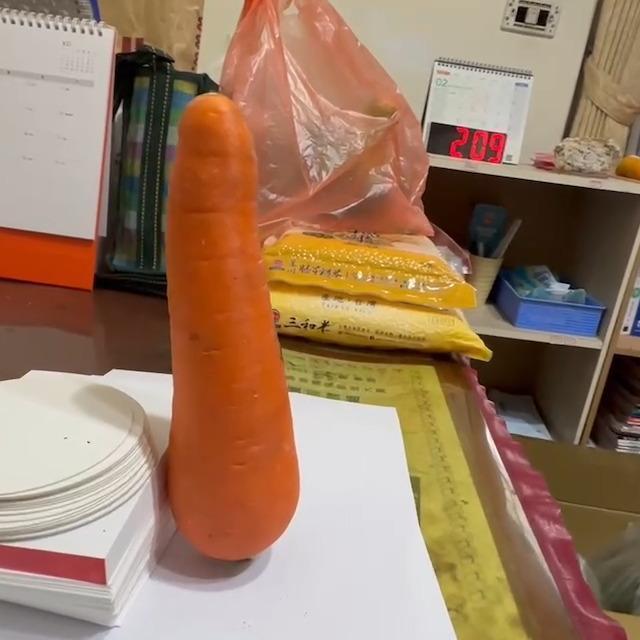carrot: (169, 92, 309, 565)
